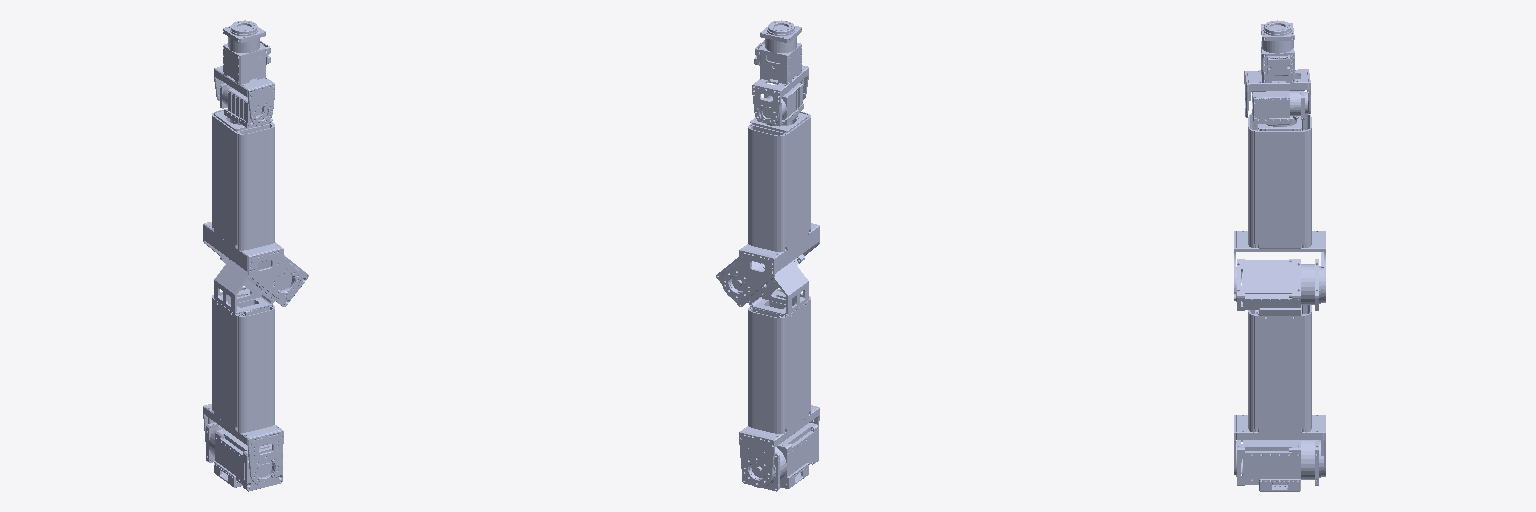
URDF robot description (Manipulator_station_urdf_2):
<?xml version="1.0" encoding="utf-8"?>
<!-- This URDF was automatically created by SolidWorks to URDF Exporter! Originally created by [author] ([email redacted]) 
     Commit Version: 1.6.0-4-g7f85cfe  Build Version: 1.6.7995.38578
     For more information, please see http://wiki.ros.org/sw_urdf_exporter -->
<robot
  name="Manipulator_station_urdf_2">
  <link
    name="Base_link">
    <inertial>
      <origin
        xyz="-0.0723308343849347 -5.76034482321908E-07 -0.138936926425514"
        rpy="0 0 0" />
      <mass
        value="10.0719247157871" />
      <inertia
        ixx="0.225372672640189"
        ixy="-5.47722770076954E-09"
        ixz="6.39304001370768E-06"
        iyy="0.215329726186438"
        iyz="-1.29340124552014E-07"
        izz="0.191427829854737" />
    </inertial>
    <visual>
      <origin
        xyz="0 0 0"
        rpy="0 0 0" />
      <geometry>
        <mesh
          filename="package://Manipulator_station_urdf_2/meshes/Base_link.STL" />
      </geometry>
      <material
        name="">
        <color
          rgba="0.792156862745098 0.819607843137255 0.933333333333333 1" />
      </material>
    </visual>
    <collision>
      <origin
        xyz="0 0 0"
        rpy="0 0 0" />
      <geometry>
        <mesh
          filename="package://Manipulator_station_urdf_2/meshes/Base_link.STL" />
      </geometry>
    </collision>
  </link>
  <link
    name="Base_arm">
    <inertial>
      <origin
        xyz="-0.0413175046626831 -0.0208972801523338 0.0320669876730205"
        rpy="0 0 0" />
      <mass
        value="4.1228447557393" />
      <inertia
        ixx="0.0113726436801867"
        ixy="-0.000168232670470485"
        ixz="0.00126187574890212"
        iyy="0.00575937558728693"
        iyz="0.000203632637247424"
        izz="0.01188198101123" />
    </inertial>
    <visual>
      <origin
        xyz="0 0 0"
        rpy="0 0 0" />
      <geometry>
        <mesh
          filename="package://Manipulator_station_urdf_2/meshes/Base_arm.STL" />
      </geometry>
      <material
        name="">
        <color
          rgba="0.776470588235294 0.756862745098039 0.737254901960784 1" />
      </material>
    </visual>
    <collision>
      <origin
        xyz="0 0 0"
        rpy="0 0 0" />
      <geometry>
        <mesh
          filename="package://Manipulator_station_urdf_2/meshes/Base_arm.STL" />
      </geometry>
    </collision>
  </link>
  <joint
    name="Base_arm_J0"
    type="prismatic">
    <origin
      xyz="0 0 -0.0286185637769465"
      rpy="0 0 0" />
    <parent
      link="Base_link" />
    <child
      link="Base_arm" />
    <axis
      xyz="0 0 -1" />
    <limit
      lower="-0.7"
      upper="0"
      effort="200"
      velocity="3" />
  </joint>
  <link
    name="L1">
    <inertial>
      <origin
        xyz="-1.10021436405816E-11 7.32518596352344E-05 0.0316911255153076"
        rpy="0 0 0" />
      <mass
        value="0.29717061581658" />
      <inertia
        ixx="0.000303886041407238"
        ixy="6.99241113621864E-15"
        ixz="4.48809908102748E-15"
        iyy="0.000133630920461156"
        iyz="3.51430414313121E-06"
        izz="0.000309461173077348" />
    </inertial>
    <visual>
      <origin
        xyz="0 0 0"
        rpy="0 0 0" />
      <geometry>
        <mesh
          filename="package://Manipulator_station_urdf_2/meshes/L1.STL" />
      </geometry>
      <material
        name="">
        <color
          rgba="0.792156862745098 0.819607843137255 0.933333333333333 1" />
      </material>
    </visual>
    <collision>
      <origin
        xyz="0 0 0"
        rpy="0 0 0" />
      <geometry>
        <mesh
          filename="package://Manipulator_station_urdf_2/meshes/L1.STL" />
      </geometry>
    </collision>
  </link>
  <joint
    name="J1"
    type="revolute">
    <origin
      xyz="0 0 0.116000000000001"
      rpy="0 0 3.14159265358979" />
    <parent
      link="Base_arm" />
    <child
      link="L1" />
    <axis
      xyz="0 0 -1" />
    <limit
      lower="-1.57"
      upper="1.57"
      effort="200"
      velocity="3" />
  </joint>
  <link
    name="L2">
    <inertial>
      <origin
        xyz="0.20185150893891 0.0161645619972203 -7.55770843141323E-05"
        rpy="0 0 0" />
      <mass
        value="0.524148568163614" />
      <inertia
        ixx="0.000499774464110963"
        ixy="3.40054540308558E-06"
        ixz="-2.50463813782652E-06"
        iyy="0.000697225471781578"
        iyz="-2.48498255392067E-06"
        izz="0.000526429291456387" />
    </inertial>
    <visual>
      <origin
        xyz="0 0 0"
        rpy="0 0 0" />
      <geometry>
        <mesh
          filename="package://Manipulator_station_urdf_2/meshes/L2.STL" />
      </geometry>
      <material
        name="">
        <color
          rgba="0.792156862745098 0.819607843137255 0.933333333333333 1" />
      </material>
    </visual>
    <collision>
      <origin
        xyz="0 0 0"
        rpy="0 0 0" />
      <geometry>
        <mesh
          filename="package://Manipulator_station_urdf_2/meshes/L2.STL" />
      </geometry>
    </collision>
  </link>
  <joint
    name="J2"
    type="revolute">
    <origin
      xyz="0 0 0.0330000000008923"
      rpy="1.5707963267949 -1.5707963267949 0" />
    <parent
      link="L1" />
    <child
      link="L2" />
    <axis
      xyz="0 0 -1" />
    <limit
      lower="-1.57"
      upper="0"
      effort="200"
      velocity="3" />
  </joint>
  <link
    name="L3">
    <inertial>
      <origin
        xyz="0.126152886971805 -0.0298818698825802 -0.000208214870130147"
        rpy="0 0 0" />
      <mass
        value="0.481103074710301" />
      <inertia
        ixx="0.000303413270297186"
        ixy="4.74930894283668E-06"
        ixz="4.09553375298929E-08"
        iyy="0.000668879602866701"
        iyz="-4.78878066581936E-08"
        izz="0.000667938888460889" />
    </inertial>
    <visual>
      <origin
        xyz="0 0 0"
        rpy="0 0 0" />
      <geometry>
        <mesh
          filename="package://Manipulator_station_urdf_2/meshes/L3.STL" />
      </geometry>
      <material
        name="">
        <color
          rgba="0.792156862745098 0.819607843137255 0.933333333333333 1" />
      </material>
    </visual>
    <collision>
      <origin
        xyz="0 0 0"
        rpy="0 0 0" />
      <geometry>
        <mesh
          filename="package://Manipulator_station_urdf_2/meshes/L3.STL" />
      </geometry>
    </collision>
  </link>
  <joint
    name="J3"
    type="revolute">
    <origin
      xyz="0.264000000000014 0.0299999999999664 0"
      rpy="0 0 0" />
    <parent
      link="L2" />
    <child
      link="L3" />
    <axis
      xyz="0 0 -1" />
    <limit
      lower="-1.57"
      upper="0"
      effort="200"
      velocity="3" />
  </joint>
  <link
    name="L4">
    <inertial>
      <origin
        xyz="0.000100097952944411 -0.00166222902026096 -0.0538849440312941"
        rpy="0 0 0" />
      <mass
        value="0.0852756037730973" />
      <inertia
        ixx="3.19354778364782E-05"
        ixy="1.01420009491847E-06"
        ixz="2.04206635751293E-11"
        iyy="1.50843843290278E-05"
        iyz="-2.23825574257021E-11"
        izz="3.23539402730483E-05" />
    </inertial>
    <visual>
      <origin
        xyz="0 0 0"
        rpy="0 0 0" />
      <geometry>
        <mesh
          filename="package://Manipulator_station_urdf_2/meshes/L4.STL" />
      </geometry>
      <material
        name="">
        <color
          rgba="0.792156862745098 0.819607843137255 0.933333333333333 1" />
      </material>
    </visual>
    <collision>
      <origin
        xyz="0 0 0"
        rpy="0 0 0" />
      <geometry>
        <mesh
          filename="package://Manipulator_station_urdf_2/meshes/L4.STL" />
      </geometry>
    </collision>
  </link>
  <joint
    name="J4"
    type="revolute">
    <origin
      xyz="0.294599574521192 -0.0300010233346771 0"
      rpy="1.5707963267949 0 1.5707963267949" />
    <parent
      link="L3" />
    <child
      link="L4" />
    <axis
      xyz="0 0 -1" />
    <limit
      lower="-1.57"
      upper="1.57"
      effort="200"
      velocity="3" />
  </joint>
  <link
    name="L5">
    <inertial>
      <origin
        xyz="0.0648173973448019 -0.000207323517899316 0.000713506973517346"
        rpy="0 0 0" />
      <mass
        value="0.138634418013041" />
      <inertia
        ixx="4.40601102397039E-05"
        ixy="-2.23466572762377E-07"
        ixz="1.74333782378955E-08"
        iyy="6.66828144588062E-05"
        iyz="1.71937506116129E-10"
        izz="6.22589621626479E-05" />
    </inertial>
    <visual>
      <origin
        xyz="0 0 0"
        rpy="0 0 0" />
      <geometry>
        <mesh
          filename="package://Manipulator_station_urdf_2/meshes/L5.STL" />
      </geometry>
      <material
        name="">
        <color
          rgba="0.792156862745098 0.819607843137255 0.933333333333333 1" />
      </material>
    </visual>
    <collision>
      <origin
        xyz="0 0 0"
        rpy="0 0 0" />
      <geometry>
        <mesh
          filename="package://Manipulator_station_urdf_2/meshes/L5.STL" />
      </geometry>
    </collision>
  </link>
  <joint
    name="J5"
    type="revolute">
    <origin
      xyz="0.000180609076408655 -0.00300457659950193 -0.0491995745209299"
      rpy="1.63069405070014 -1.5707963267949 0" />
    <parent
      link="L4" />
    <child
      link="L5" />
    <axis
      xyz="0 0 -1" />
    <limit
      lower="-1.57"
      upper="0"
      effort="200"
      velocity="3" />
  </joint>
  <link
    name="Gripper">
    <inertial>
      <origin
        xyz="-0.00239854584595212 -0.00129454529425393 0.164957767373349"
        rpy="0 0 0" />
      <mass
        value="0.714884909554401" />
      <inertia
        ixx="0.000812741434805093"
        ixy="8.80616625652652E-07"
        ixz="2.57702333456977E-07"
        iyy="0.000696069782175367"
        iyz="2.52923825913591E-06"
        izz="0.000289658112195835" />
    </inertial>
    <visual>
      <origin
        xyz="0 0 0"
        rpy="0 0 0" />
      <geometry>
        <mesh
          filename="package://Manipulator_station_urdf_2/meshes/Gripper.STL" />
      </geometry>
      <material
        name="">
        <color
          rgba="0.792156862745098 0.819607843137255 0.933333333333333 1" />
      </material>
    </visual>
    <collision>
      <origin
        xyz="0 0 0"
        rpy="0 0 0" />
      <geometry>
        <mesh
          filename="package://Manipulator_station_urdf_2/meshes/Gripper.STL" />
      </geometry>
    </collision>
  </link>
  <joint
    name="J6"
    type="revolute">
    <origin
      xyz="0.110994586070567 0.00109629513563991 0"
      rpy="-1.5707963267949 -0.0575855851524496 -1.5609196334649" />
    <parent
      link="L5" />
    <child
      link="Gripper" />
    <axis
      xyz="0 0 -1" />
    <limit
      lower="-1.57"
      upper="1.57"
      effort="200"
      velocity="3" />
  </joint>
</robot>

--- What the picture shows (computed from the rendered views, not written in the file) ---
3 views of the same robot in one strip: view 1: azimuth 30°, elevation 25°; view 2: azimuth 150°, elevation 25°; view 3: azimuth 270°, elevation 25° (orthographic).
Robot: Manipulator_station_urdf_2 — 8 links, 7 joints (6 revolute, 1 prismatic); root link Base_link; default pose: all joints at 0.
Visible links, largest first — view 1: L2, L3, L5, L1, L4; view 2: L2, L3, L5, L1, L4; view 3: L2, L3, L1, L5, L4.
Link boxes in pixels (bbox=[...]): L2: bbox=[203, 254, 308, 482]; L3: bbox=[203, 109, 300, 298]; L5: bbox=[214, 20, 274, 125]; L1: bbox=[206, 423, 282, 491]; L4: bbox=[220, 83, 269, 127]; L2: bbox=[716, 254, 819, 487]; L3: bbox=[722, 112, 819, 300]; L5: bbox=[752, 20, 808, 122]; L1: bbox=[742, 423, 818, 491]; L4: bbox=[757, 83, 803, 126]; L2: bbox=[1234, 259, 1325, 476]; L3: bbox=[1234, 113, 1325, 302]; L1: bbox=[1236, 440, 1323, 491]; L5: bbox=[1244, 20, 1310, 117]; L4: bbox=[1252, 91, 1307, 126].
Size in the robot's own frame: 0.0968 by 0.12 by 0.6536 metres.
5 mesh visuals loaded from 8 distinct referenced files (5 binary STL); not drawn: 3 (reference not matched to a file when rendering).
